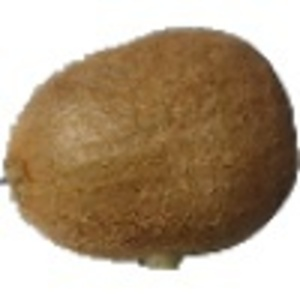kiwi: (1, 26, 300, 272)
